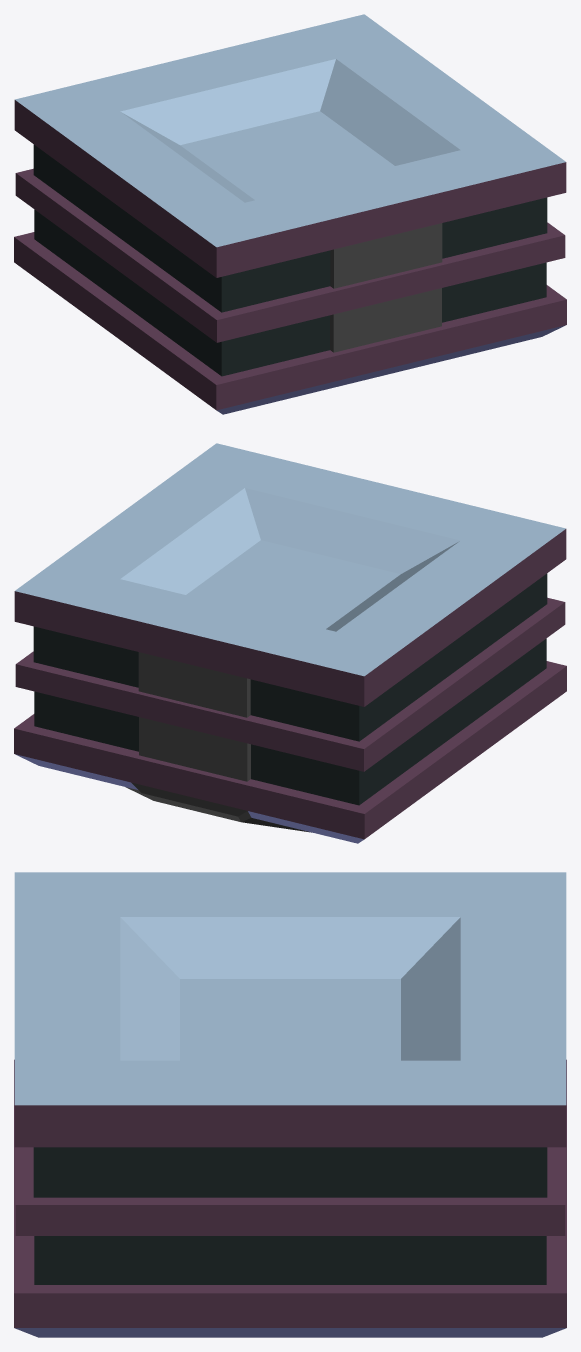
File: ammo.fbx
3 views of the same model, one above another, from view 1: azimuth 30°, elevation 25°; view 2: azimuth 150°, elevation 25°; view 3: azimuth 270°, elevation 25° (orthographic). The views are drawn at different scales.
Parts seen in each view (by area): view 1: Cube; view 2: Cube; view 3: Cube.
Part boxes in pixels (x1=…): Cube: x1=14, y1=14, x2=566, y2=414; Cube: x1=14, y1=443, x2=566, y2=843; Cube: x1=14, y1=872, x2=566, y2=1337.
Bounding box in the file's own units: 0.469 × 0.258 × 0.469.
